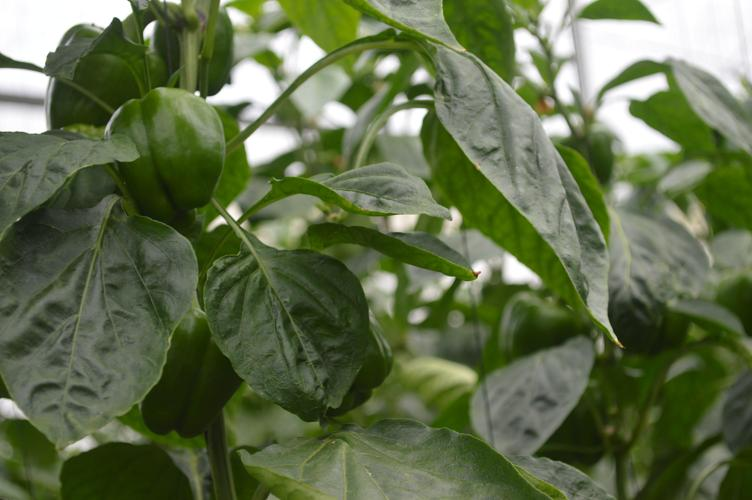BellPepper: (98, 89, 236, 228), (136, 301, 247, 446), (41, 18, 164, 118), (493, 280, 591, 386)
